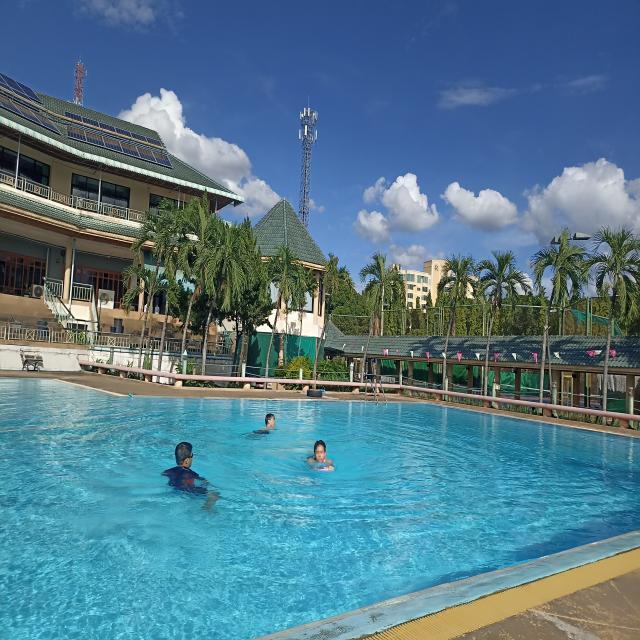Swimming: (161, 439, 222, 513), (236, 407, 282, 448), (303, 438, 336, 474)
